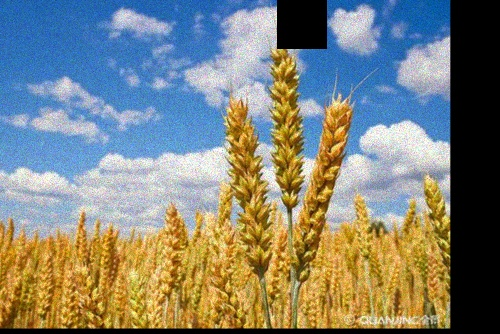wheat: (295, 95, 345, 286), (221, 86, 267, 281), (268, 33, 306, 210)
